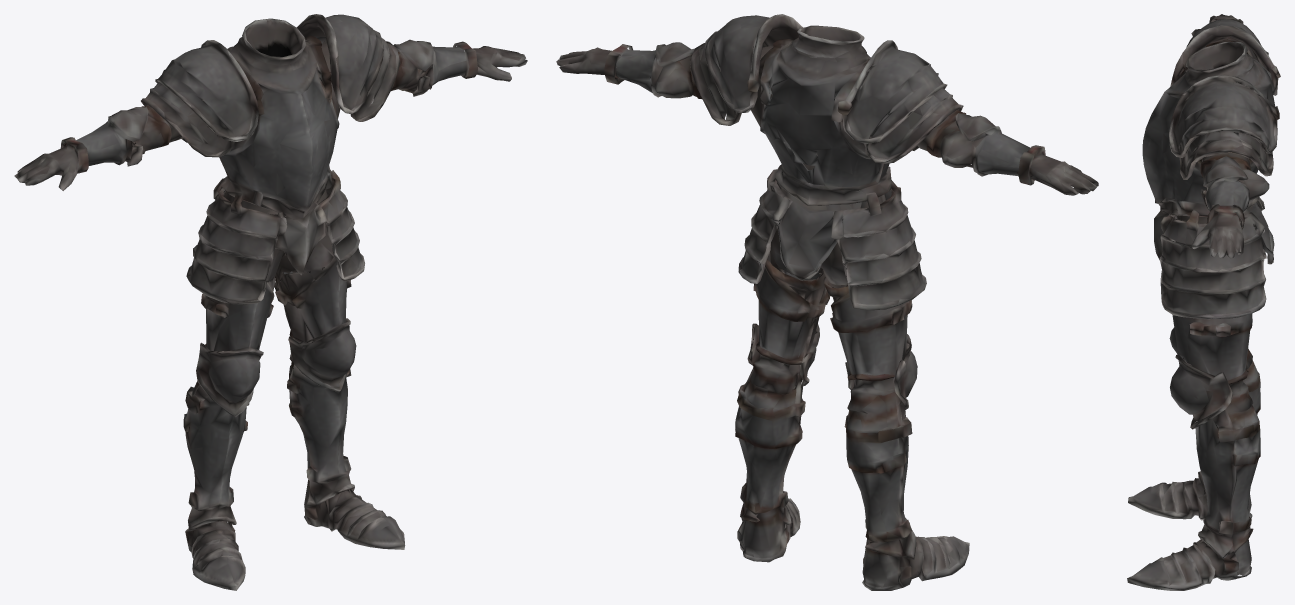
File: plate-suit-20k-v9.glb
3 renders of one model, left to right at view 1: azimuth 30°, elevation 25°; view 2: azimuth 150°, elevation 25°; view 3: azimuth 270°, elevation 25°, orthographic. The views are drawn at different scales.
Parts seen in each view (by area): view 1: plate-suit-v9-20k-v1; view 2: plate-suit-v9-20k-v1; view 3: plate-suit-v9-20k-v1.
Boxes of the visible parts, x1,y1,x2,y2 form: plate-suit-v9-20k-v1: (14, 14, 527, 590); plate-suit-v9-20k-v1: (556, 14, 1098, 590); plate-suit-v9-20k-v1: (1127, 14, 1280, 590).
Bounding box in the file's own units: 1 × 0.9601 × 0.2699.
1 material, 1 textured.
